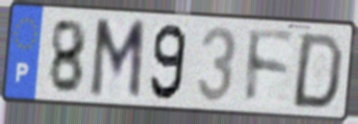3: (196, 24, 241, 107)
8: (47, 17, 90, 97)
9: (149, 22, 189, 103)
D: (288, 31, 346, 112)
F: (244, 26, 296, 108)
M: (87, 17, 148, 104)
